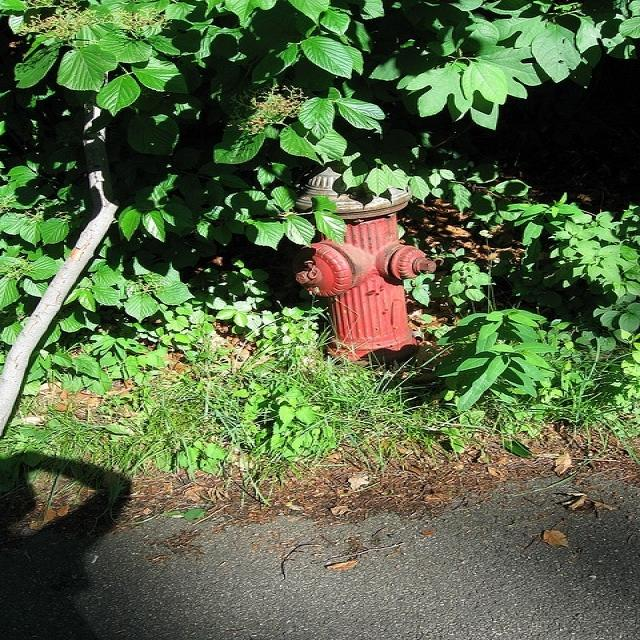fire_hydrant: (248, 173, 486, 396)
